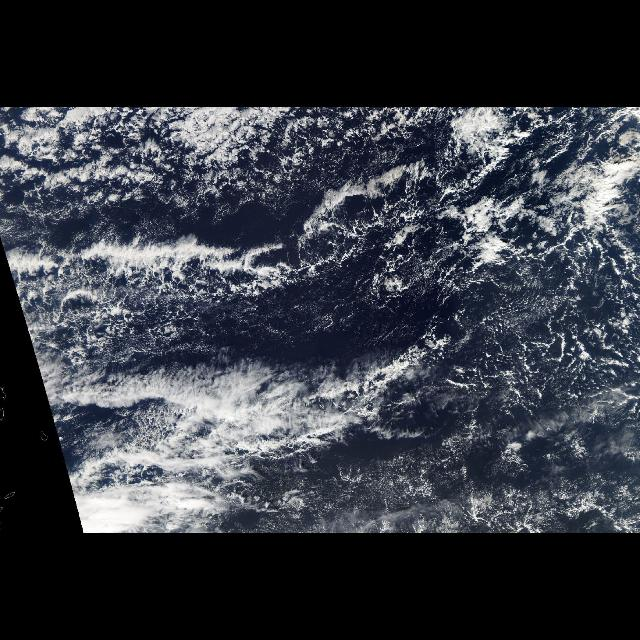Fish: (61, 221, 322, 321)
Gravel: (8, 113, 636, 509)
